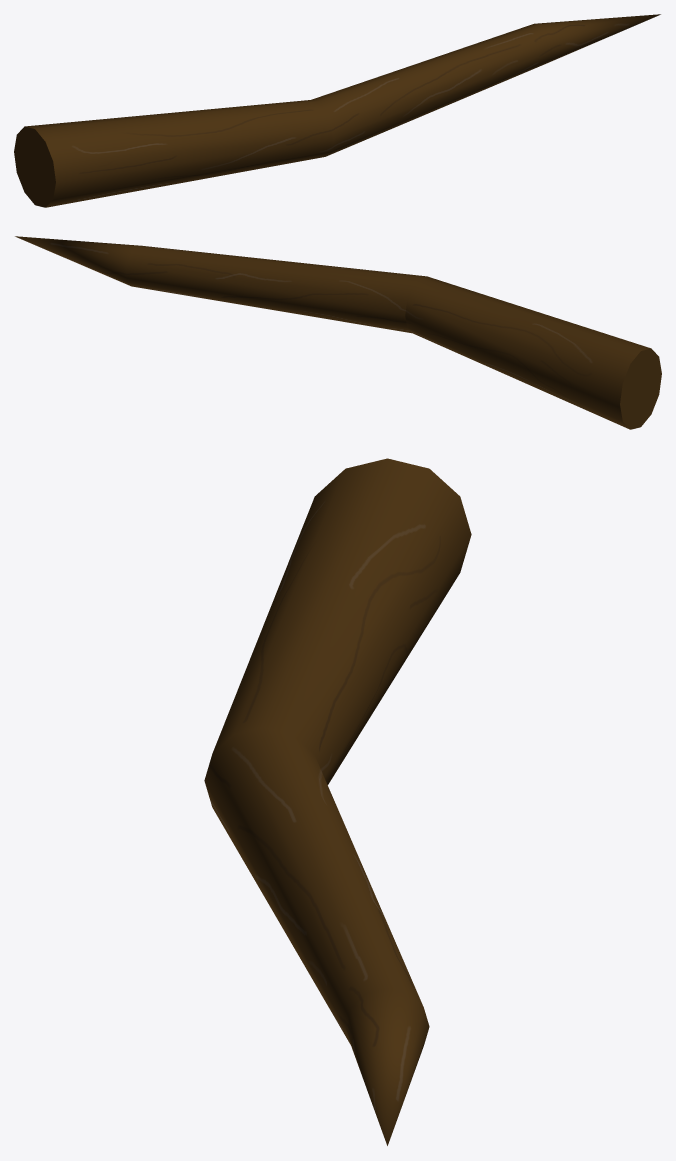
File: TreeBranchV2.fbx
The picture shows the model from 3 angles, top to bottom: view 1: azimuth 30°, elevation 25°; view 2: azimuth 150°, elevation 25°; view 3: azimuth 270°, elevation 25°; orthographic projection. The views are drawn at different scales.
Visible parts, largest first — view 1: BranchV2; view 2: BranchV2; view 3: BranchV2.
Boxes of the visible parts, x1,y1,x2,y2 form: BranchV2: (14,14,660,207); BranchV2: (15,236,661,429); BranchV2: (204,458,471,1145).
Size of the model in its own units: 603 by 70 by 111.
Materials: 1 (1 with a texture image).
